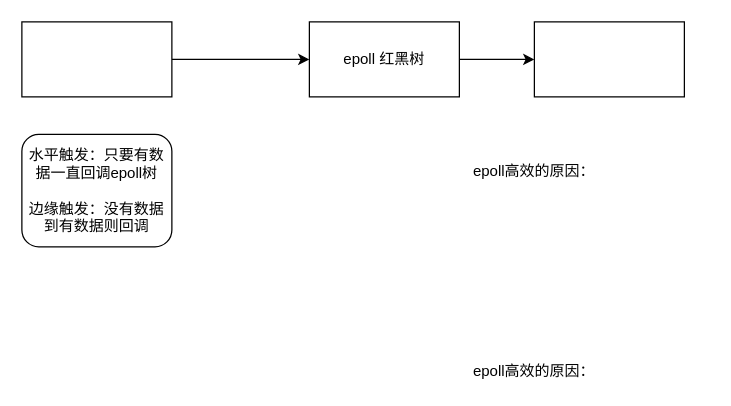
This 731x406 diagram has some shape labels left out. The shapes that lost their labels are listed below. From the top down, each one's centre as x and y in pixels, then its label:
At (x=96, y=59): "协议栈".
At (x=608, y=59): "就绪队列".
